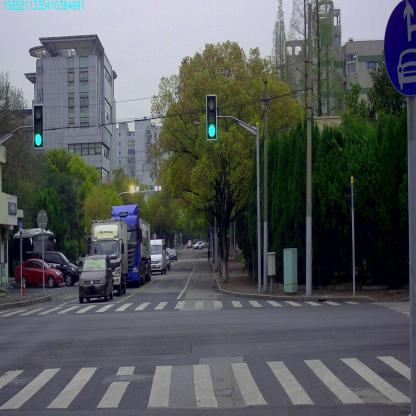traffic-light: (206, 94, 217, 139), (34, 106, 42, 146)
